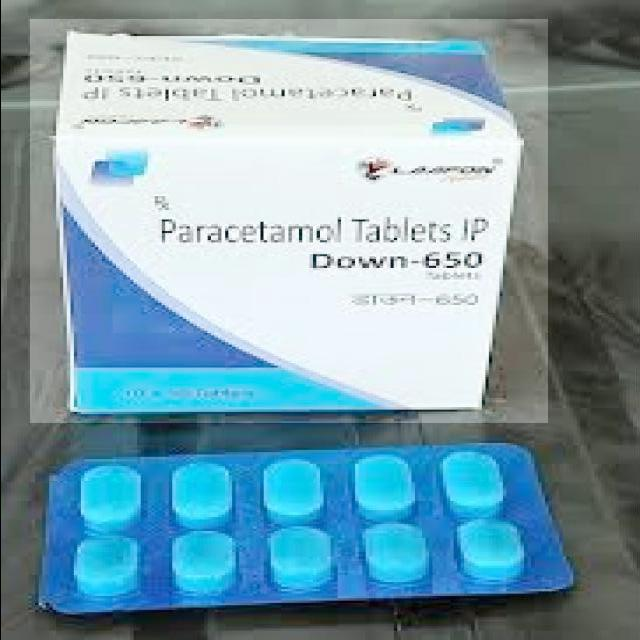authentic: (31, 19, 548, 423), (33, 436, 601, 620)
